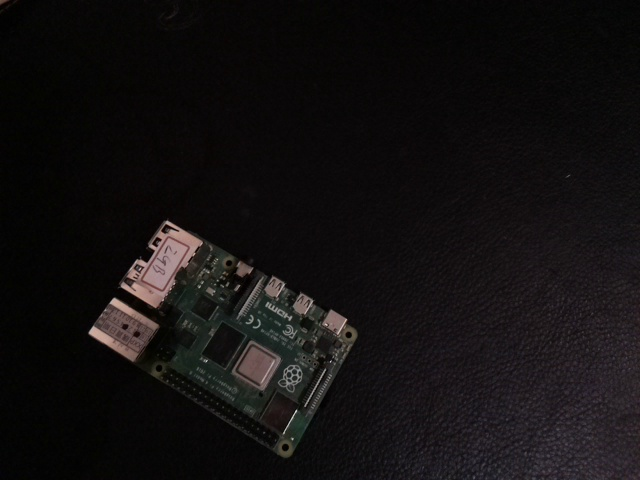pi4: (72, 177, 366, 471)
